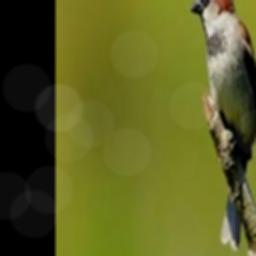Sparrow: (191, 0, 256, 250)
